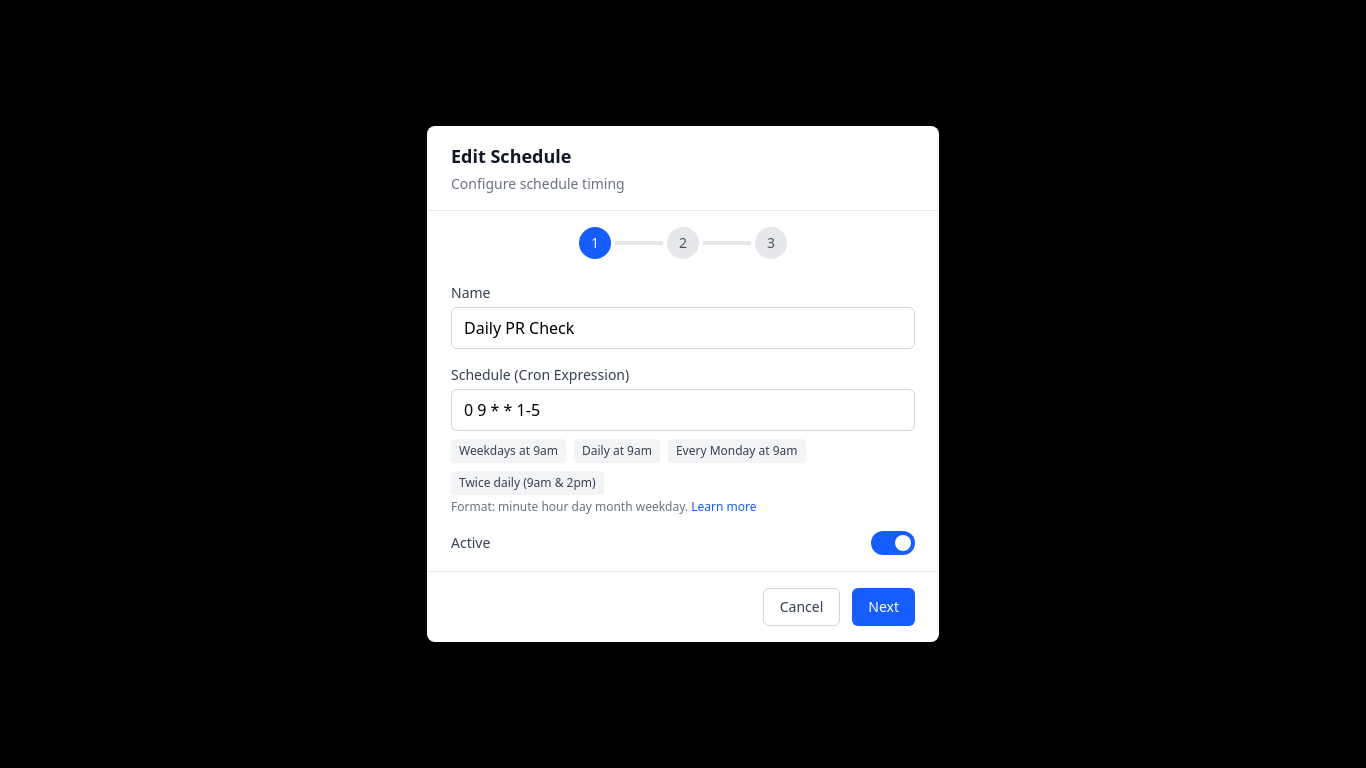
ScheduleForm › Edit Mode › uses stored PAT when editing without entering new PAT
// Go to step 2
Click the button "Next". click: (884, 607)
box: [852, 588, 915, 626]
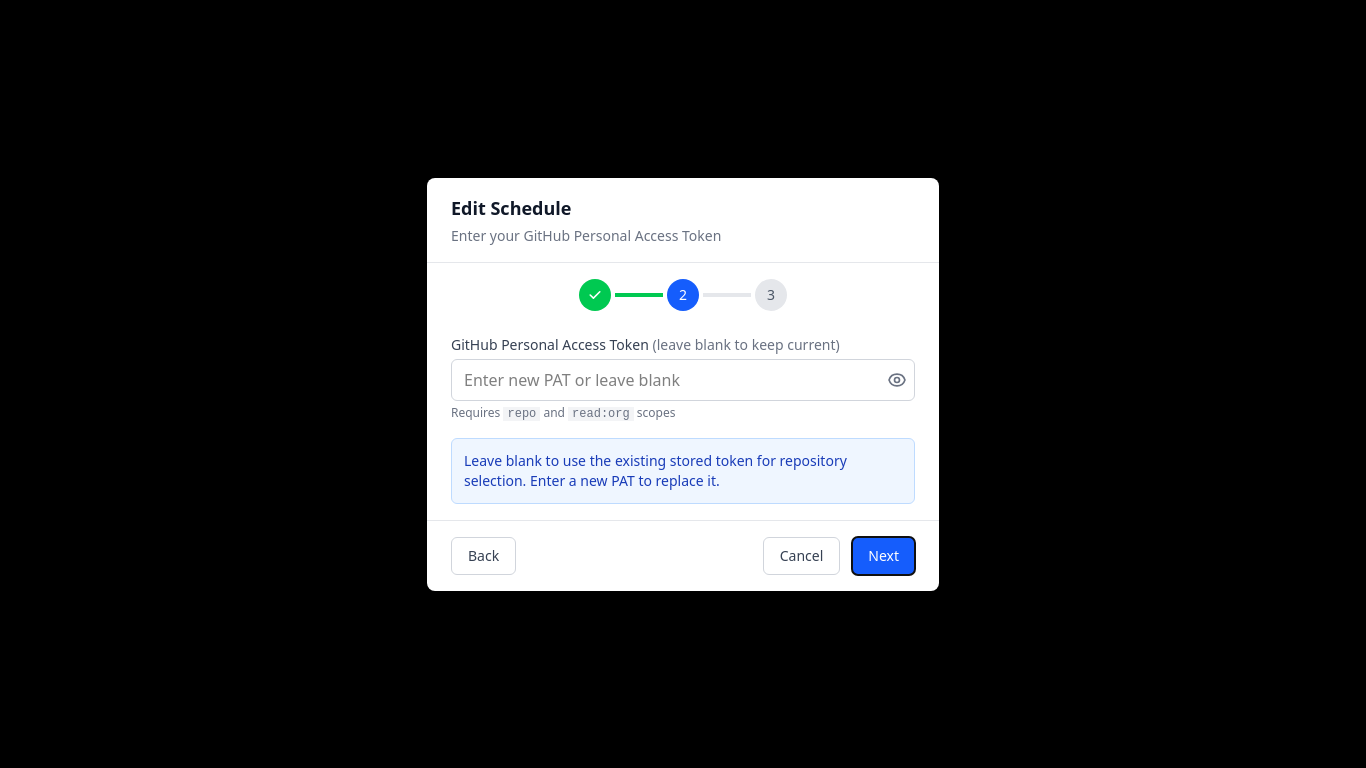
Check: the text "Leave blank to use the existing stored token" is shown, box [464, 450, 847, 490]
// Clicking Next should fetch orgs using stored PAT and go to step 3
Click the button "Next". click: (884, 556)
box: [852, 536, 915, 574]
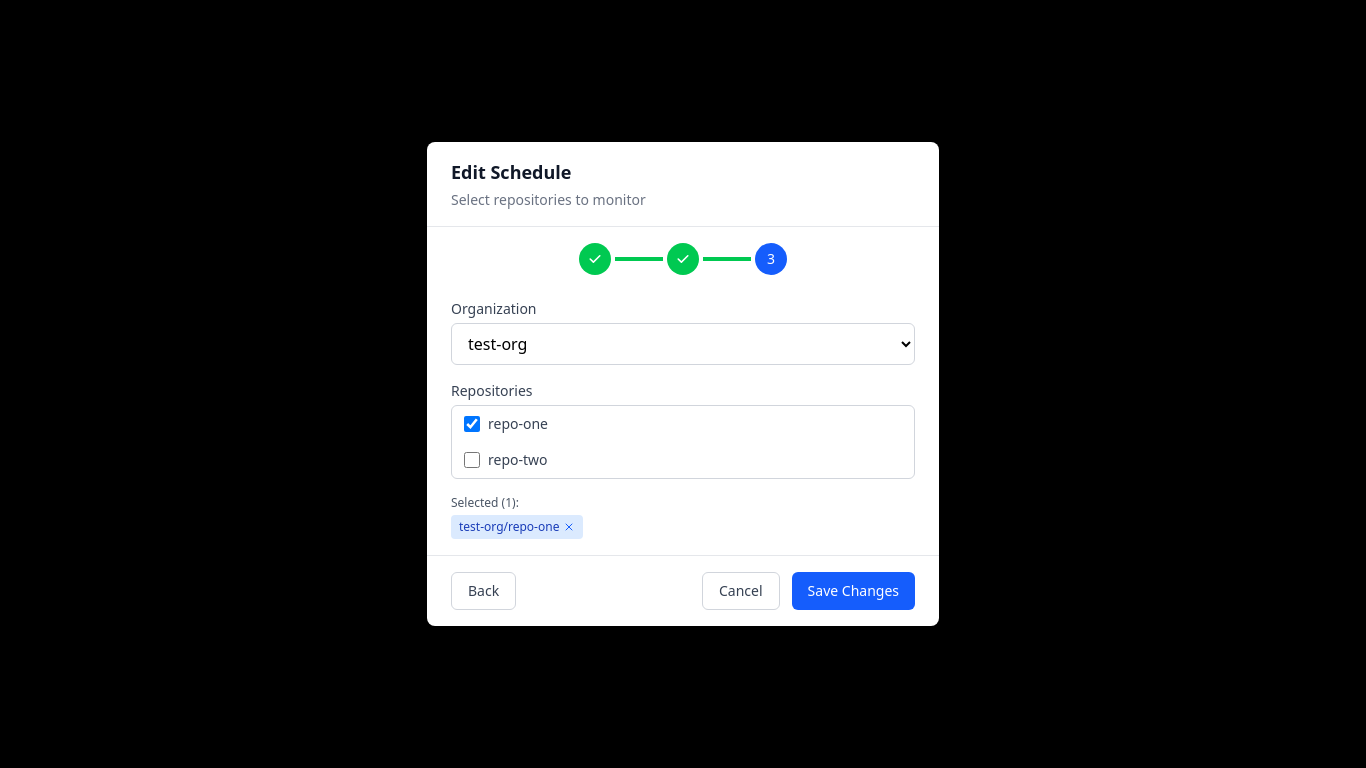
Check: the text "Select repositories to monitor" is shown, box [451, 190, 646, 209]
